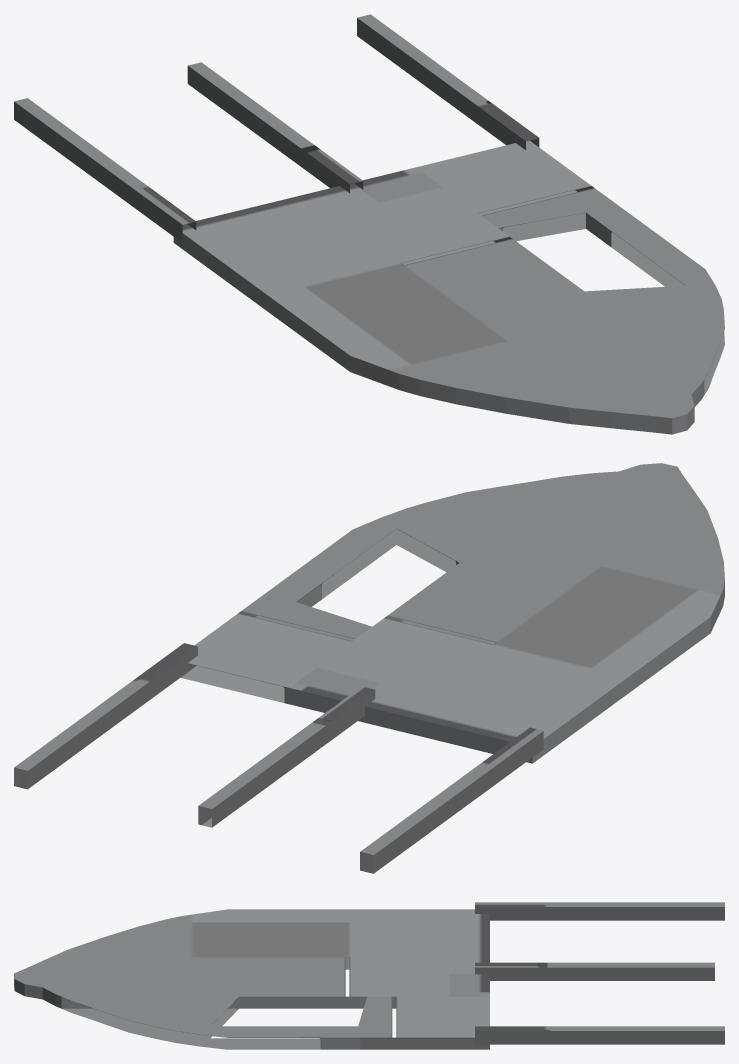
3 renders of one model, top to bottom at view 1: azimuth 30°, elevation 25°; view 2: azimuth 150°, elevation 25°; view 3: azimuth 270°, elevation 25°, orthographic. The views are drawn at different scales.
Bounding box in the file's own units: 0.915 × 0.0625 × 2.13.
